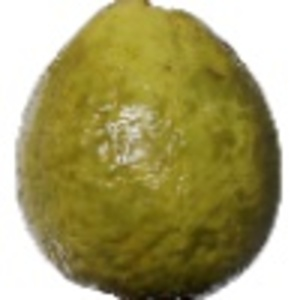goiaba: (13, 3, 285, 295)
